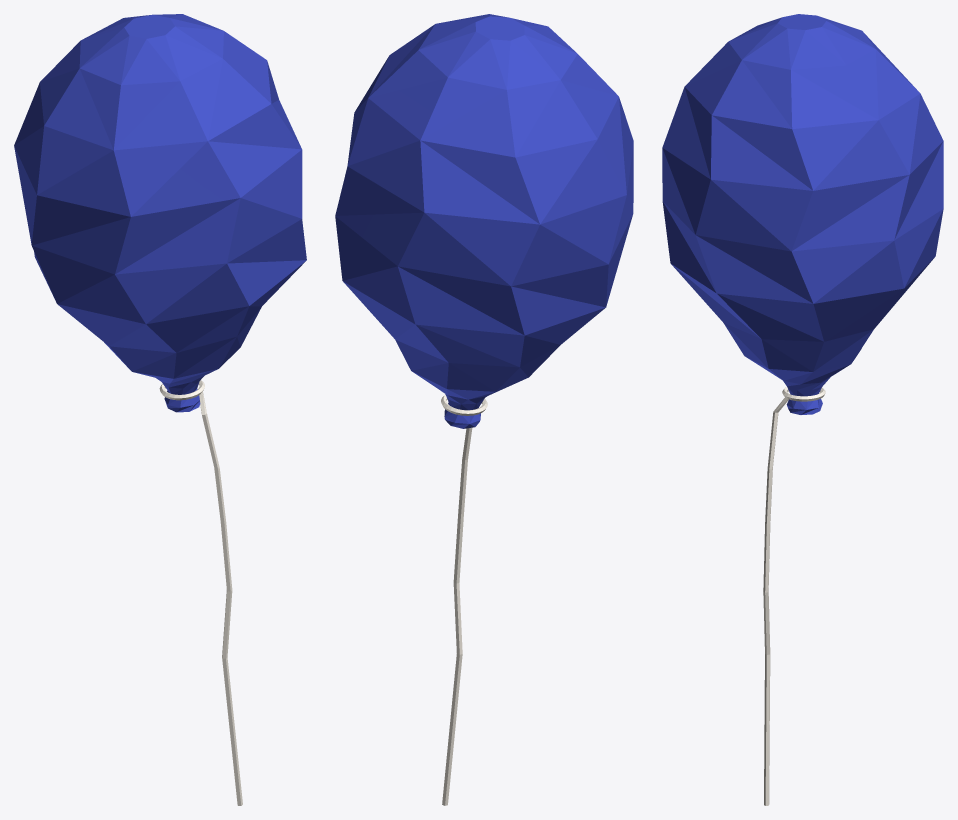
Rendered from Prop_Balloon_01.fbx.
3 renders of one model, left to right at view 1: azimuth 30°, elevation 25°; view 2: azimuth 150°, elevation 25°; view 3: azimuth 270°, elevation 25°, orthographic. The views are drawn at different scales.
Visible parts, largest first — view 1: Prop_Balloon_01; view 2: Prop_Balloon_01; view 3: Prop_Balloon_01.
Boxes of the visible parts, box(x1,y1,x2,y2) form: Prop_Balloon_01: box(14, 14, 306, 805); Prop_Balloon_01: box(335, 14, 633, 805); Prop_Balloon_01: box(662, 14, 943, 805).
Bounding box in the file's own units: 301 × 871 × 295.
